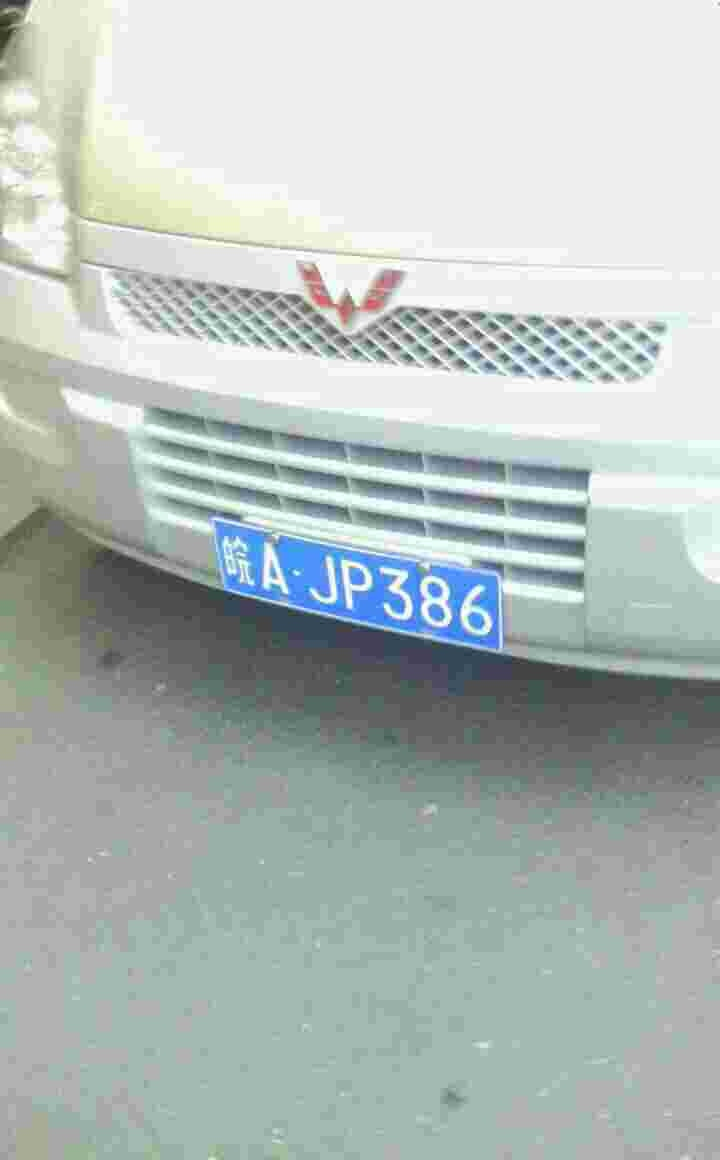license_plate: (209, 519, 492, 648)
